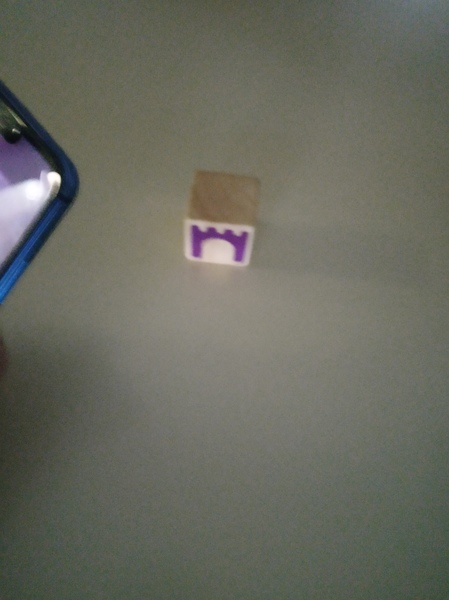violet: (178, 170, 268, 273)
